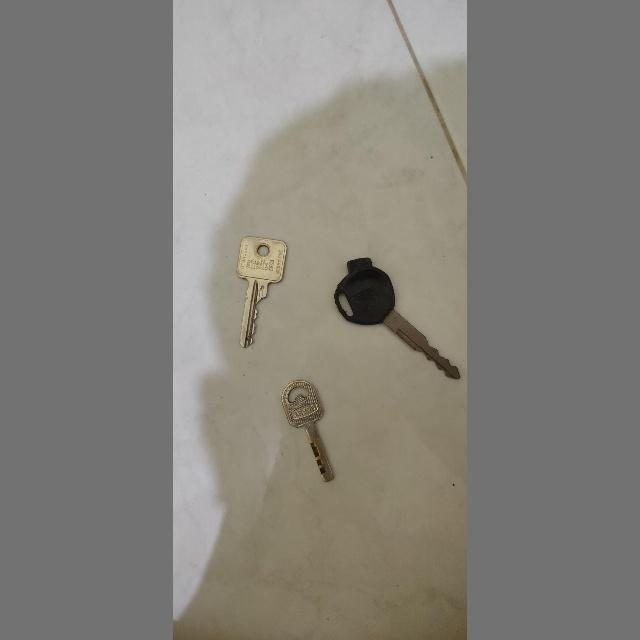Keys: (326, 252, 466, 388), (226, 229, 290, 357), (275, 368, 341, 489)
